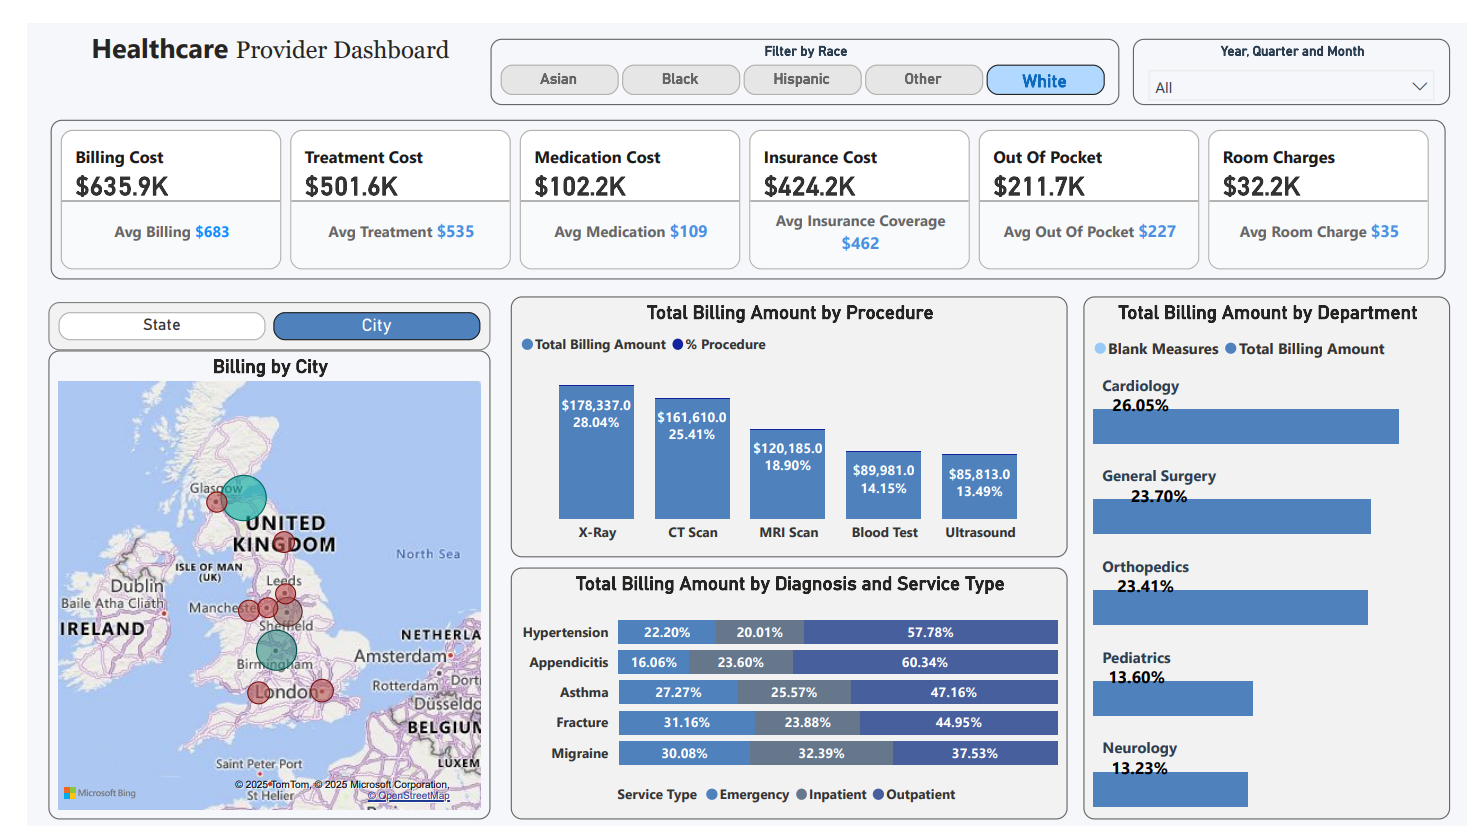

The dashboard page shown, as its layout file describes it:
{"tool":"powerbi","page":{"name":"Page 2","canvas":[1280,720],"ordinal":1},"visuals":[{"type":"cardVisual","fields":{"Data":["_Measures.Total Billing Amount","_Measures.Total Treatment Cost","_Measures.Total Medication cost","_Measures.Total insurance Cost","_Measures.Out_Of_Pocket_cost","_Measures.Total Room Charge Cost"]},"box":[20.8,86.3,1239.8,142.2],"z":0},{"type":"map","title":"Billing by City","fields":{"Category":["cities.City"],"Size":["_Measures.Total Billing Amount"]},"box":[19.2,290.8,393,417],"z":1000},{"type":"columnChart","title":"Total Billing Amount by Procedure","fields":{"Category":["procedures.Procedure"],"Y":["_Measures.Total Billing Amount","_Measures.% of total"]},"box":[429.8,242.8,495.3,231.7],"z":2000},{"type":"hundredPercentStackedBarChart","fields":{"Y":["_Measures.Total Billing Amount"],"Category":["diagnoses.Diagnosis"],"Series":["visits.Service Type"]},"box":[429.8,484.1,495.3,223.7],"z":3000},{"type":"clusteredBarChart","title":"Total Billing Amount by Department","fields":{"Y":["_Measures.Blank Measure","_Measures.Total Billing Amount"],"Category":["departments.Department"]},"box":[939.4,242.8,325.9,464.9],"z":4000},{"type":"advancedSlicerVisual","fields":{"Values":["Location parameter.Location parameter"]},"box":[18.6,247.6,393,43.1],"z":5000},{"type":"textbox","box":[43.1,0,346.7,55.9],"z":5001},{"type":"advancedSlicerVisual","title":"Filter by Race","fields":{"Values":["patients.Race"]},"box":[412.2,14.4,559.2,59.1],"z":5002},{"type":"slicer","title":"Year, Quarter and Month ","fields":{"Values":["Datetable.year","Datetable.Quarter","Datetable.Month Name"]},"box":[982.6,14.4,282.8,59.1],"z":5003}]}

Visuals, with their boxes in screenshot pixels (x1, y1, x2, y2), scaled from the page's 1280x720 canvas onto the 1473x826 screenshot:
cardVisual - _Measures.Total Billing Amount x _Measures.Total Treatment Cost: x1=24, y1=99, x2=1451, y2=262
"Billing by City" map: x1=22, y1=334, x2=474, y2=812
"Total Billing Amount by Procedure" columnChart: x1=495, y1=279, x2=1065, y2=544
hundredPercentStackedBarChart - _Measures.Total Billing Amount x diagnoses.Diagnosis: x1=495, y1=555, x2=1065, y2=812
"Total Billing Amount by Department" clusteredBarChart: x1=1081, y1=279, x2=1456, y2=812
advancedSlicerVisual - Location parameter.Location parameter: x1=21, y1=284, x2=474, y2=333
textbox: x1=50, y1=0, x2=449, y2=64
"Filter by Race" advancedSlicerVisual: x1=474, y1=17, x2=1118, y2=84
"Year, Quarter and Month " slicer: x1=1131, y1=17, x2=1456, y2=84
